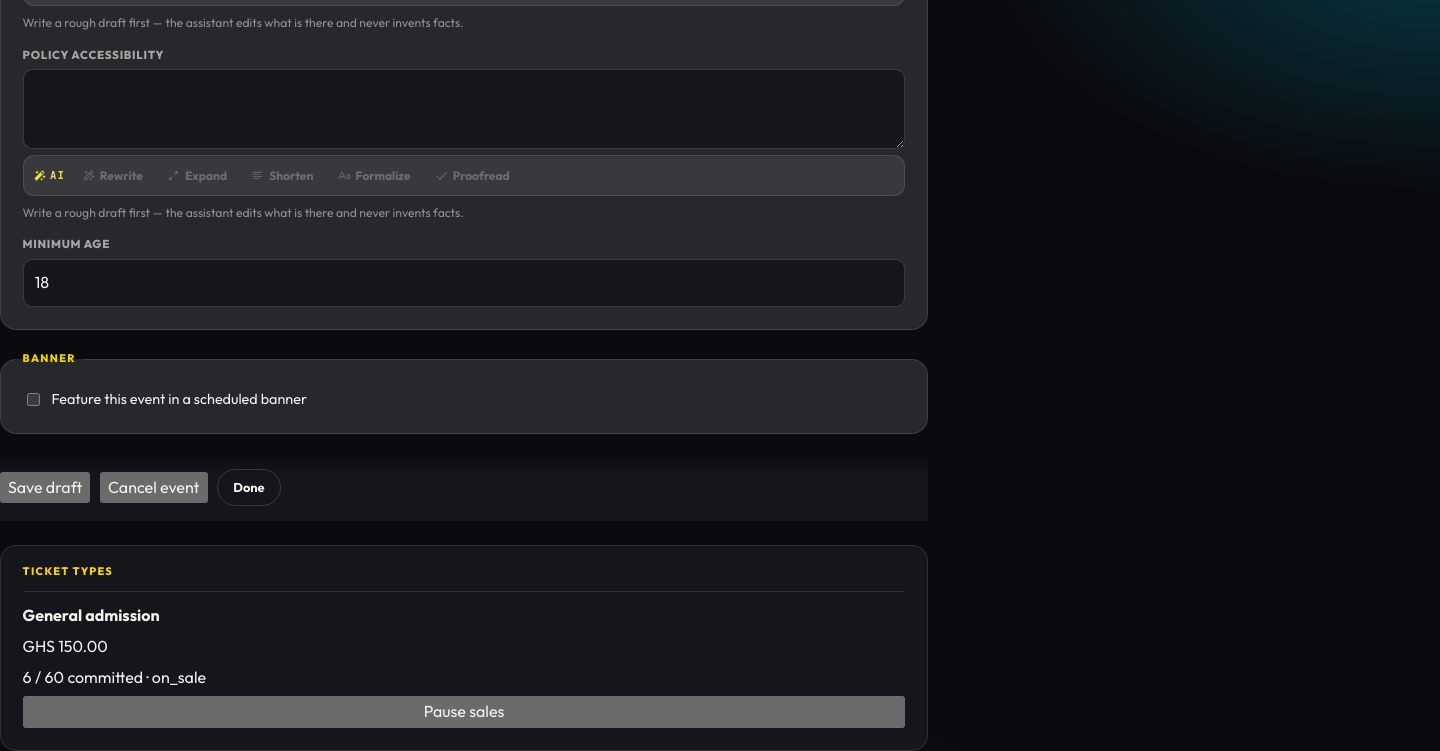
Test case: EventEditor › uses explicit server actions for published ticket pause and event cancellation
(page scrolled)
Click the button "Pause sales" at (464, 712), box x1=23 y1=696 x2=905 y2=728
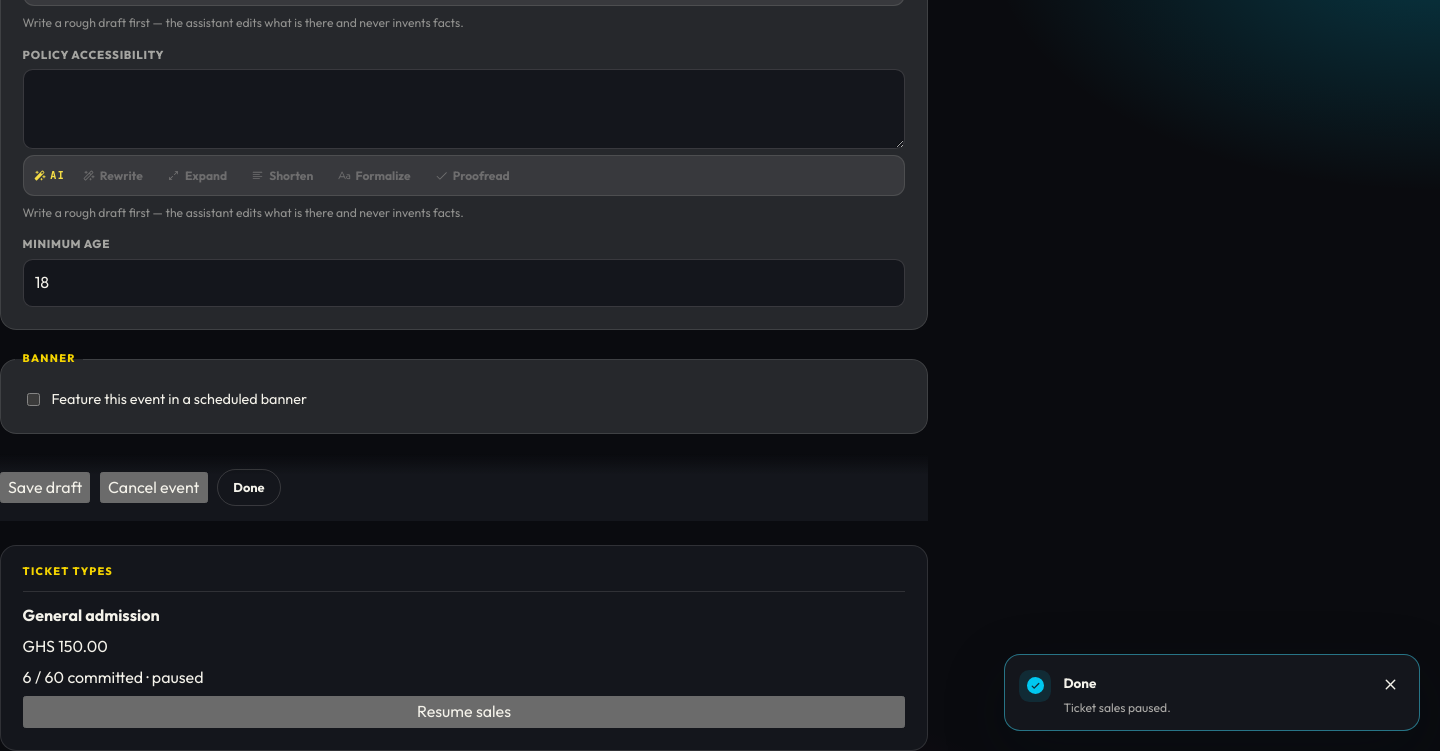
Now the text "Ticket sales paused." is shown, box x1=1063 y1=700 x2=1171 y2=715
Click the button "Cancel event" at (154, 487), box x1=100 y1=472 x2=208 y2=503
(page scrolled)
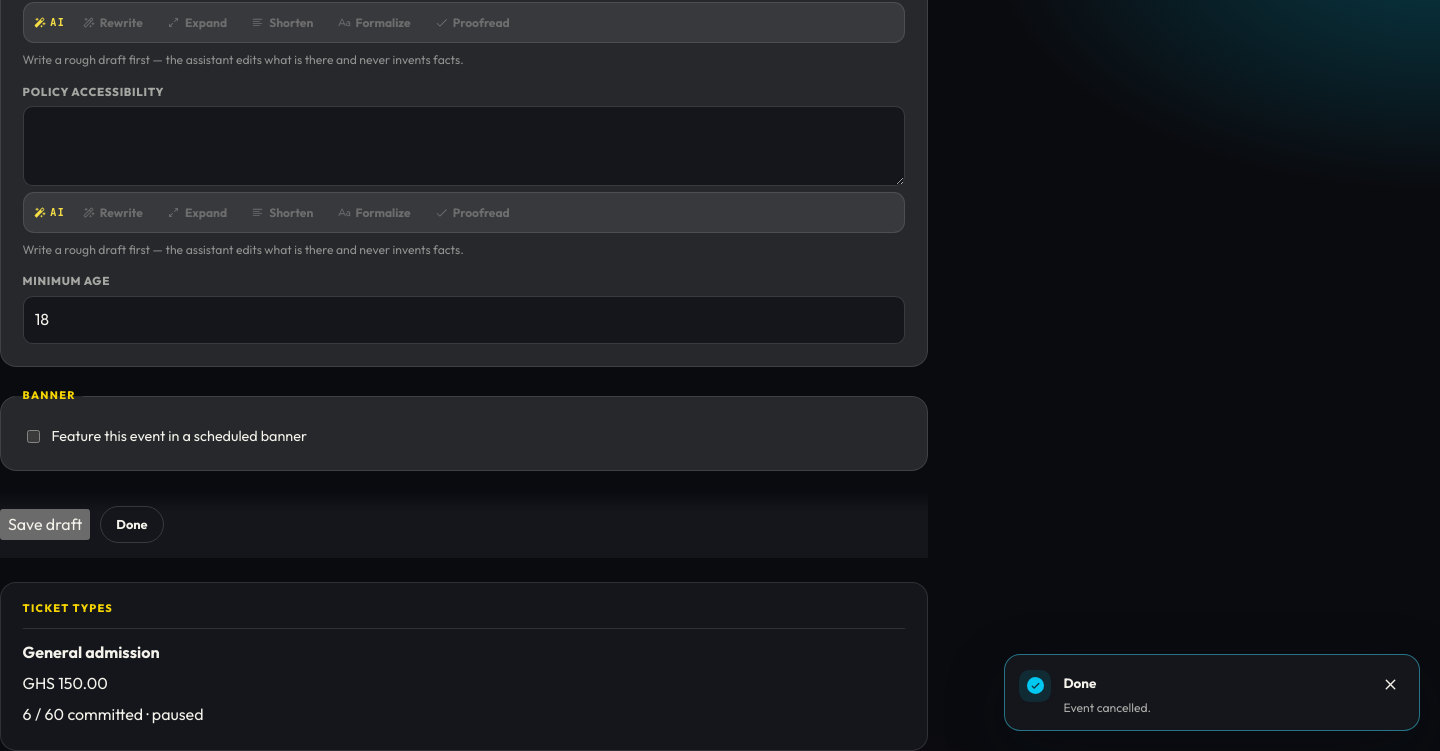
Now the text "Event cancelled." is shown, box x1=1063 y1=700 x2=1151 y2=715
Now the button "Cancel event" is gone
